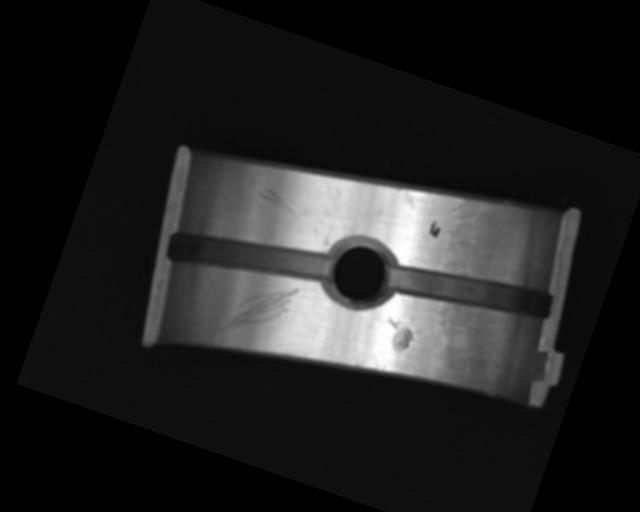blot: (427, 218, 443, 240)
bruise: (379, 317, 418, 355)
gap: (165, 205, 335, 309), (385, 241, 556, 339)
hole: (319, 229, 402, 315)
nick: (211, 266, 300, 360), (256, 186, 311, 219)
